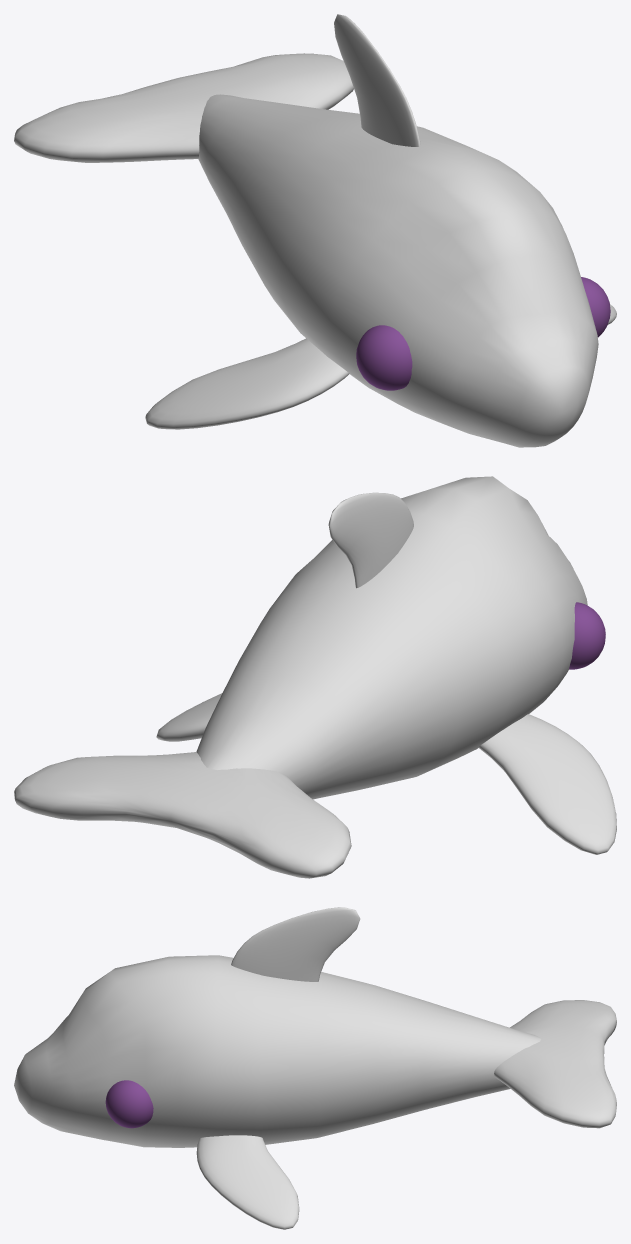
File: dolphin.fbx
The picture shows the model from 3 angles, top to bottom: view 1: azimuth 30°, elevation 25°; view 2: azimuth 150°, elevation 25°; view 3: azimuth 270°, elevation 25°; orthographic projection. The views are drawn at different scales.
Parts seen in each view (by area): view 1: Sphere.001; view 2: Sphere.001; view 3: Sphere.001.
Part boxes in pixels (x1,y1,x2,y2): Sphere.001: (14, 14, 616, 447); Sphere.001: (14, 476, 616, 878); Sphere.001: (14, 907, 616, 1229).
Bounding box in the file's own units: 349 × 237 × 525.
